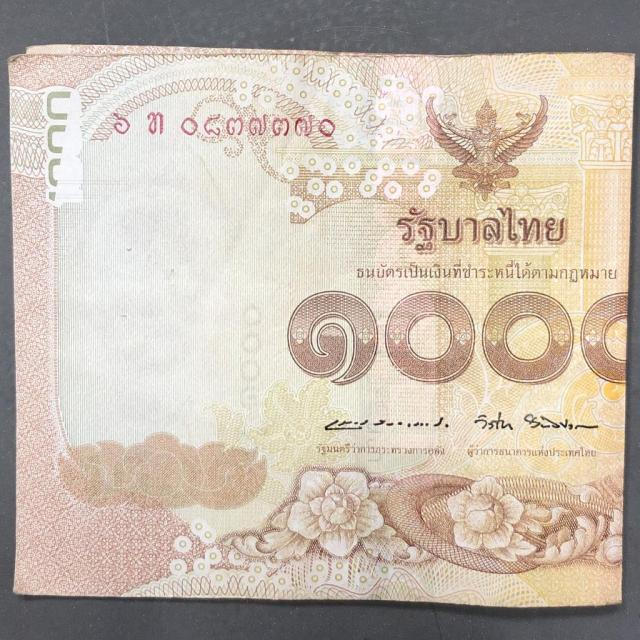THAI1000: (10, 45, 634, 608)
